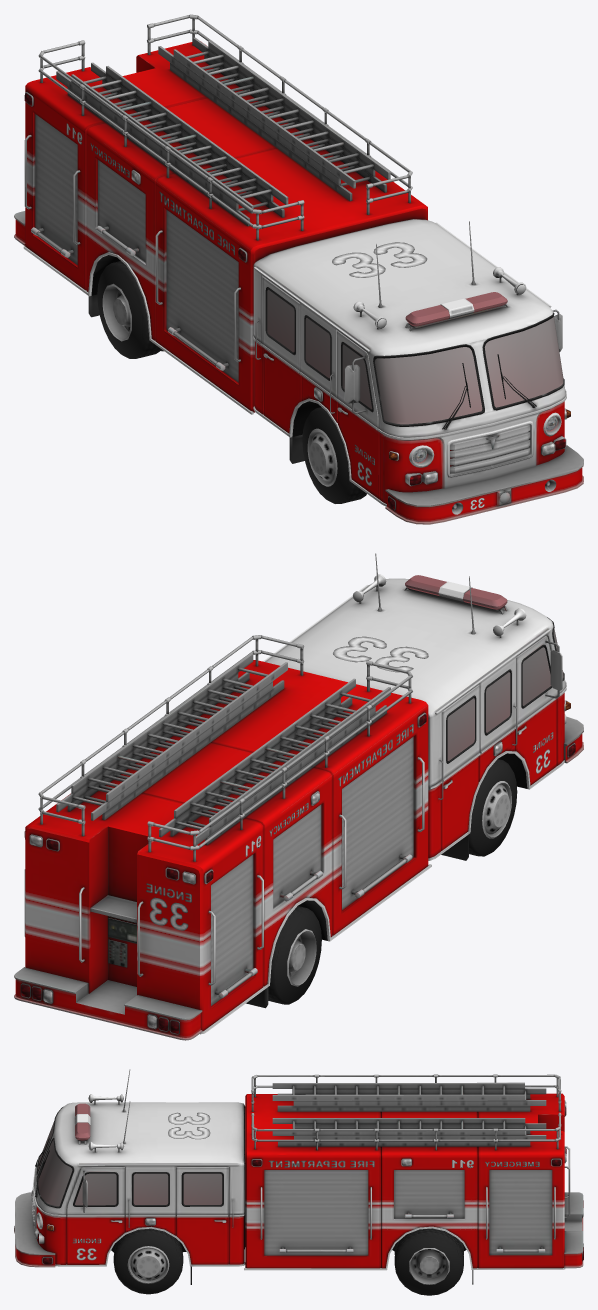
The model's file is firetruck.glb.
3 views of the same model, one above another, from view 1: azimuth 30°, elevation 25°; view 2: azimuth 150°, elevation 25°; view 3: azimuth 270°, elevation 25° (orthographic). The views are drawn at different scales.
Visible parts, largest first — view 1: firetruck body, Rear Right Wheel, Front Right Wheel; view 2: firetruck body, Rear Right Wheel, Front Right Wheel; view 3: firetruck body, Rear Left Wheel, Front Left Wheel.
Boxes of the visible parts, x1,y1,x2,y2 form: firetruck body: [14, 14, 583, 524]; Rear Right Wheel: [97, 261, 163, 358]; Front Right Wheel: [302, 407, 366, 503]; firetruck body: [14, 553, 583, 1040]; Rear Right Wheel: [268, 906, 321, 1004]; Front Right Wheel: [469, 759, 517, 856]; firetruck body: [14, 1069, 583, 1284]; Rear Left Wheel: [394, 1228, 463, 1295]; Front Left Wheel: [113, 1228, 183, 1294].
Bounding box in the file's own units: 2.59 × 2.93 × 8.36.
Materials: 1 (1 with a texture image).
